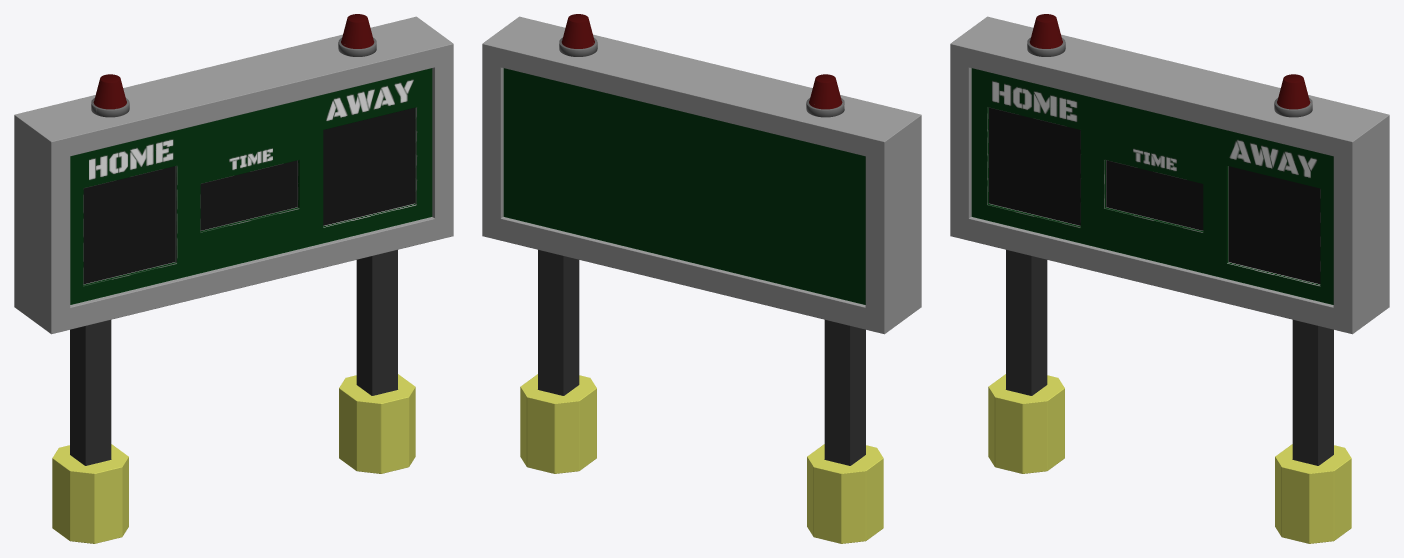
Rendered from Scoreboard.fbx.
3 views of the same model, side by side, from view 1: azimuth 30°, elevation 25°; view 2: azimuth 150°, elevation 25°; view 3: azimuth 330°, elevation 25° (orthographic).
Visible parts, largest first — view 1: ScoreBoard, Home Light, Away Light.001; view 2: ScoreBoard, Home Light, Away Light.001; view 3: ScoreBoard, Away Light.001, Home Light.
Boxes of the visible parts, bbox=[...] form: ScoreBoard: bbox=[14, 16, 453, 543]; Home Light: bbox=[91, 74, 129, 117]; Away Light.001: bbox=[338, 14, 376, 56]; ScoreBoard: bbox=[482, 16, 921, 543]; Home Light: bbox=[806, 74, 844, 117]; Away Light.001: bbox=[559, 14, 597, 56]; ScoreBoard: bbox=[950, 16, 1389, 543]; Away Light.001: bbox=[1274, 74, 1312, 117]; Home Light: bbox=[1027, 14, 1065, 56].
Bounding box in the file's own units: 1140 × 1202 × 183.
